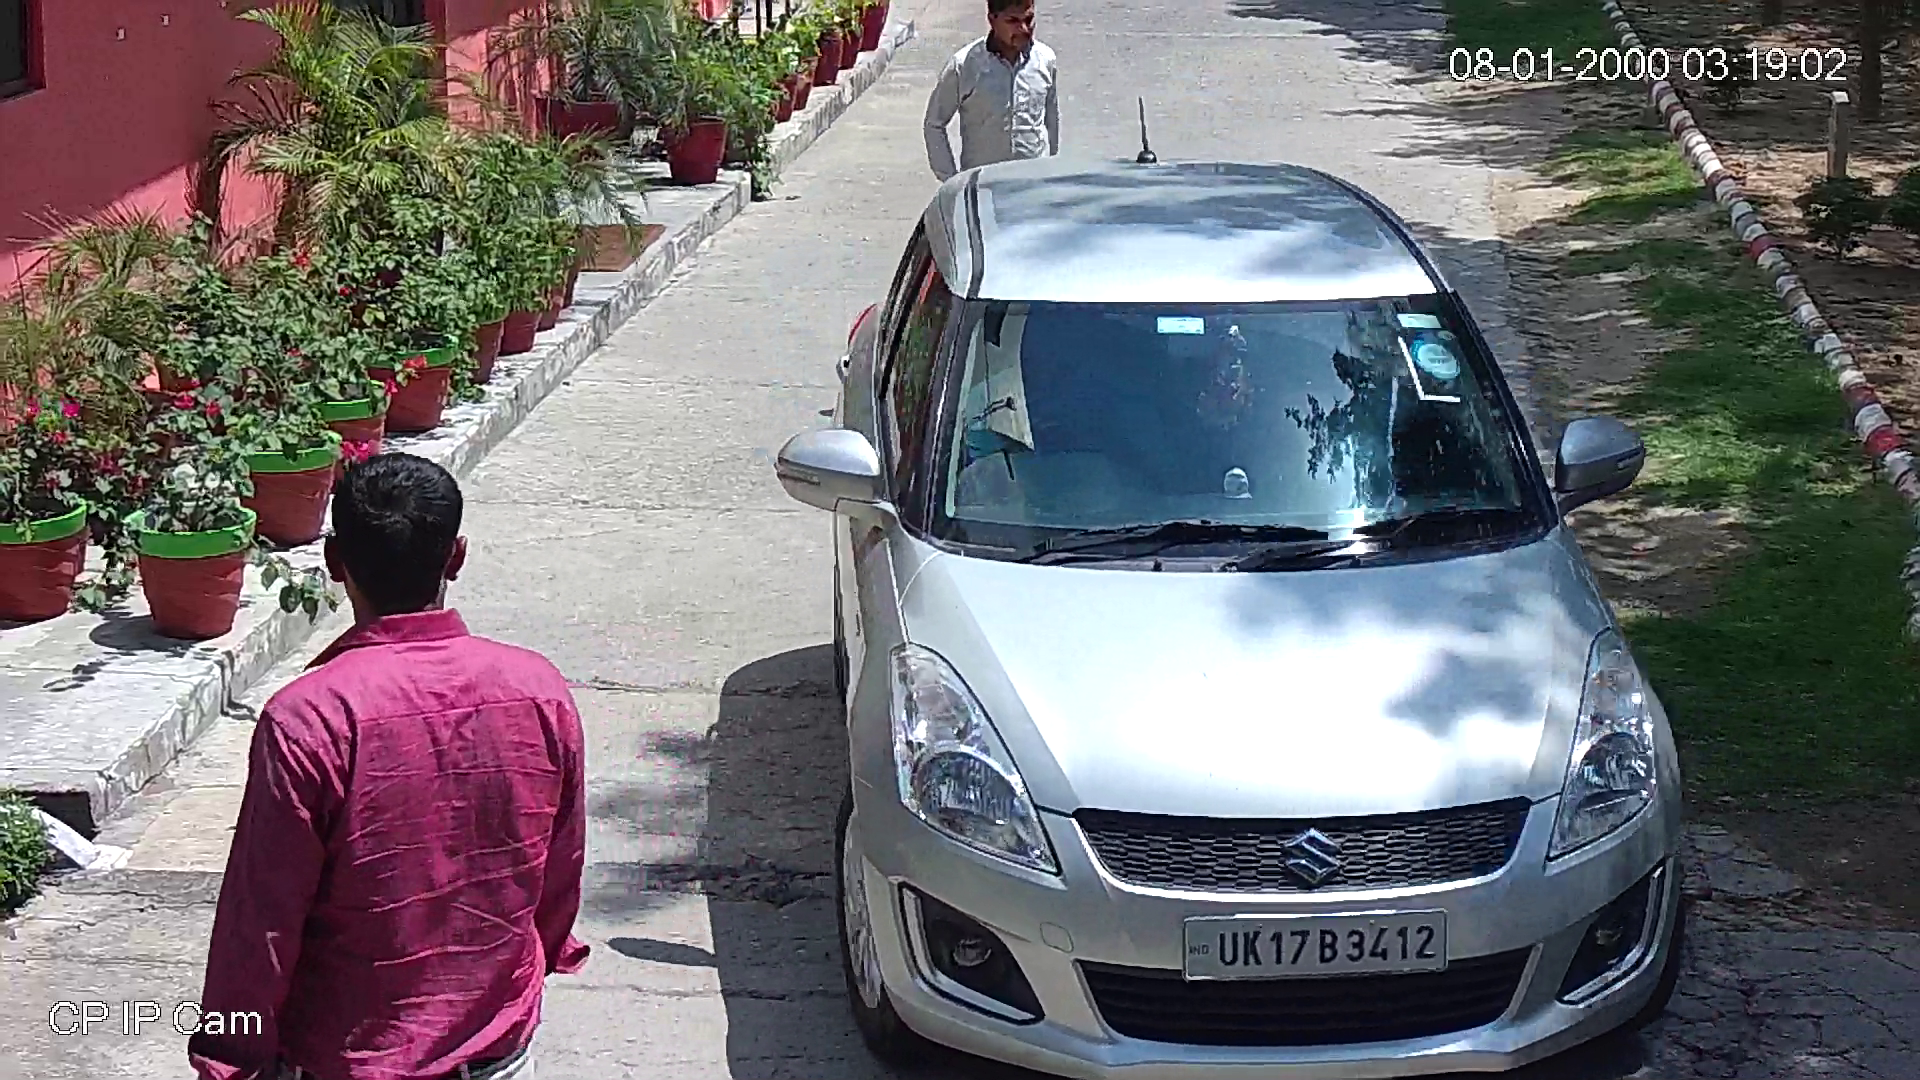plate: (1172, 902, 1460, 996)
